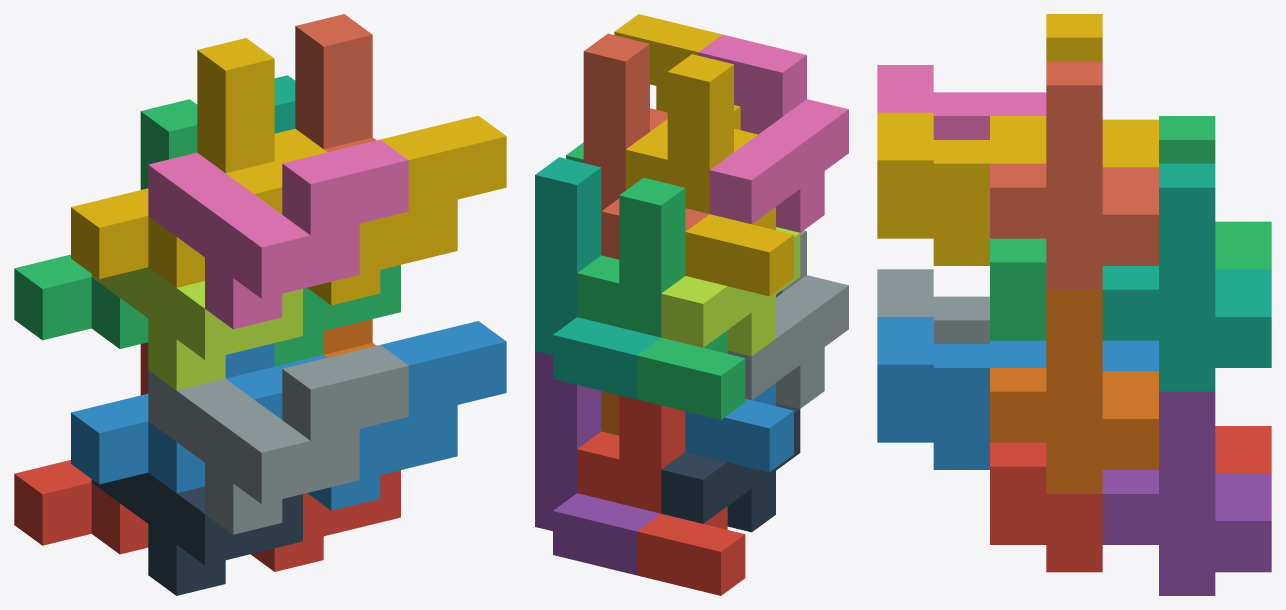
The model's file is tiling.obj.
3 views of the same model, side by side, from view 1: azimuth 30°, elevation 25°; view 2: azimuth 150°, elevation 25°; view 3: azimuth 270°, elevation 25° (orthographic). The views are drawn at different scales.
Visible parts, largest first — view 1: copy_2_domain_4, copy_2_domain_2, copy_1_domain_4, copy_2_domain_8, copy_2_domain_6, copy_1_domain_3, copy_1_domain_2, copy_2_domain_3, copy_2_domain_1, copy_1_domain_8, copy_1_domain_1, copy_2_domain_5 (+3 smaller); view 2: copy_2_domain_4, copy_1_domain_3, copy_1_domain_4, copy_1_domain_7, copy_1_domain_5, copy_1_domain_1, copy_1_domain_8, copy_2_domain_2, copy_2_domain_3, copy_2_domain_1, copy_1_domain_2, copy_2_domain_8 (+3 smaller); view 3: copy_1_domain_7, copy_1_domain_8, copy_1_domain_5, copy_1_domain_6, copy_2_domain_8, copy_2_domain_6, copy_2_domain_5, copy_1_domain_4, copy_2_domain_4, copy_2_domain_7, copy_1_domain_3, copy_2_domain_2 (+2 smaller).
Part boxes in pixels (<box>): copy_2_domain_4: <box>148,139,408,329</box>; copy_2_domain_2: <box>148,345,408,534</box>; copy_1_domain_4: <box>71,38,282,287</box>; copy_2_domain_8: <box>274,115,506,305</box>; copy_2_domain_6: <box>275,321,506,510</box>; copy_1_domain_3: <box>14,99,197,348</box>; copy_1_domain_2: <box>71,343,282,493</box>; copy_2_domain_3: <box>91,267,302,390</box>; copy_2_domain_1: <box>91,472,302,595</box>; copy_1_domain_8: <box>295,14,376,151</box>; copy_1_domain_1: <box>14,342,148,554</box>; copy_2_domain_5: <box>251,470,400,571</box>; copy_2_domain_4: <box>698,34,848,232</box>; copy_1_domain_3: <box>619,177,745,419</box>; copy_1_domain_4: <box>667,54,793,296</box>; copy_1_domain_7: <box>535,157,660,399</box>; copy_1_domain_5: <box>535,351,660,575</box>; copy_1_domain_1: <box>619,395,745,595</box>; copy_1_domain_8: <box>583,33,709,259</box>; copy_2_domain_2: <box>727,230,848,408</box>; copy_2_domain_3: <box>661,227,800,356</box>; copy_2_domain_1: <box>661,403,800,532</box>; copy_1_domain_2: <box>685,383,793,472</box>; copy_2_domain_8: <box>614,14,740,190</box>; copy_1_domain_7: <box>1102,163,1271,391</box>; copy_1_domain_8: <box>990,61,1158,289</box>; copy_1_domain_5: <box>1102,391,1271,595</box>; copy_1_domain_6: <box>990,289,1158,493</box>; copy_2_domain_8: <box>877,112,1046,265</box>; copy_2_domain_6: <box>877,317,1046,469</box>; copy_2_domain_5: <box>990,442,1102,572</box>; copy_1_domain_4: <box>990,14,1158,167</box>; copy_2_domain_4: <box>877,65,1046,139</box>; copy_2_domain_7: <box>990,238,1046,340</box>; copy_1_domain_3: <box>1159,116,1271,269</box>; copy_2_domain_2: <box>877,269,989,343</box>.
Size of the model in its own units: 6 by 10 by 7.
